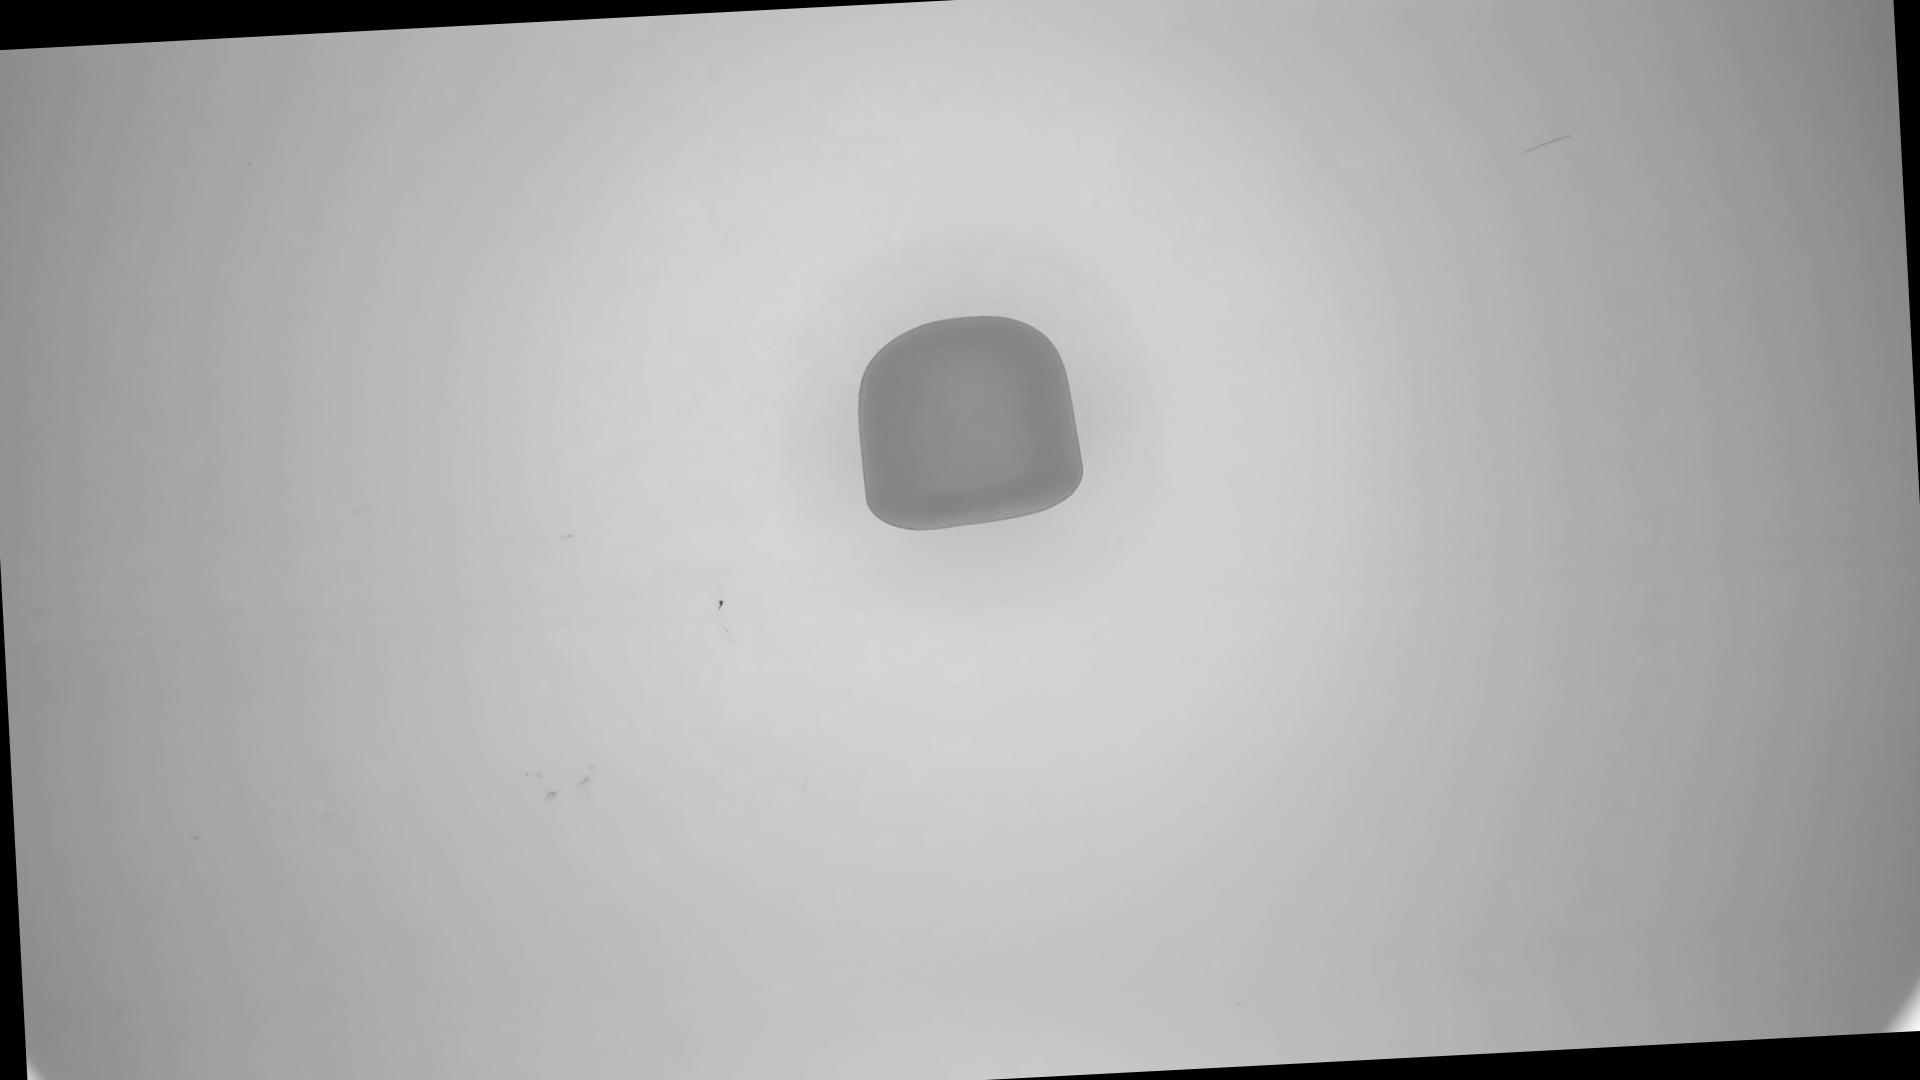normal: (853, 310, 1088, 537)
